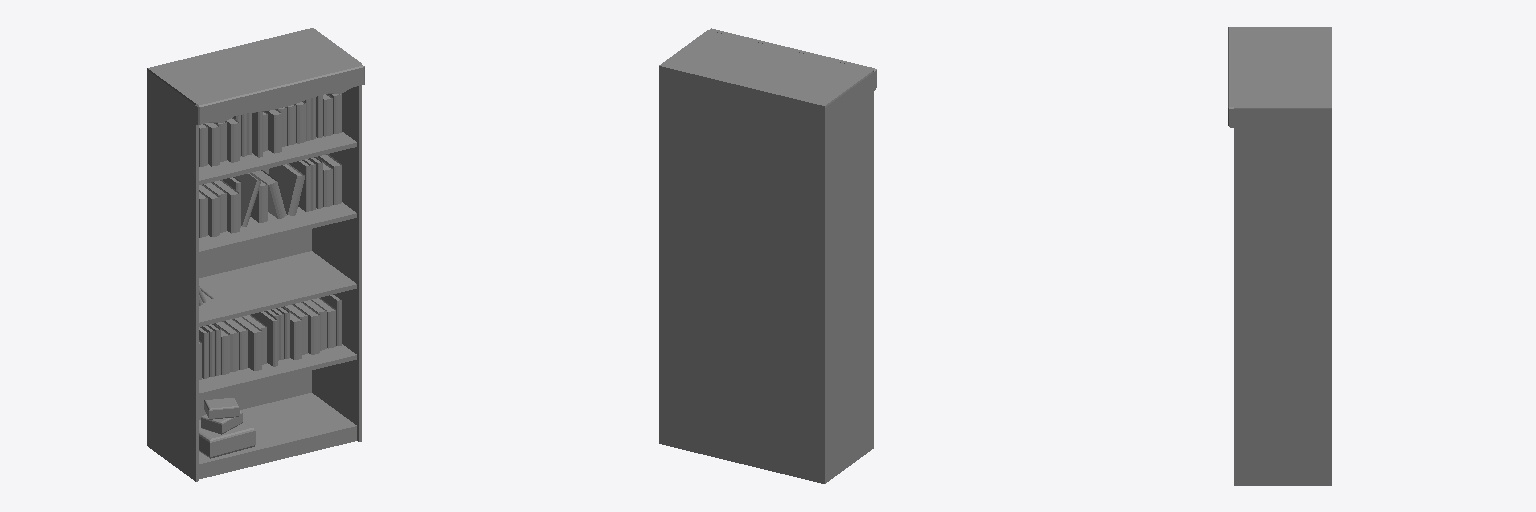
The model's file is bookshelf.obj.
3 views of the same model, side by side, from view 1: azimuth 30°, elevation 25°; view 2: azimuth 150°, elevation 25°; view 3: azimuth 270°, elevation 25° (orthographic).
Parts seen in each view (by area): view 1: Object001; view 2: Object001; view 3: Object001.
Part boxes in pixels (x1,y1,x2,y2): Object001: (147,28,364,481); Object001: (659,28,876,483); Object001: (1228,27,1331,485).
Size of the model in its own units: 222 by 480 by 120.